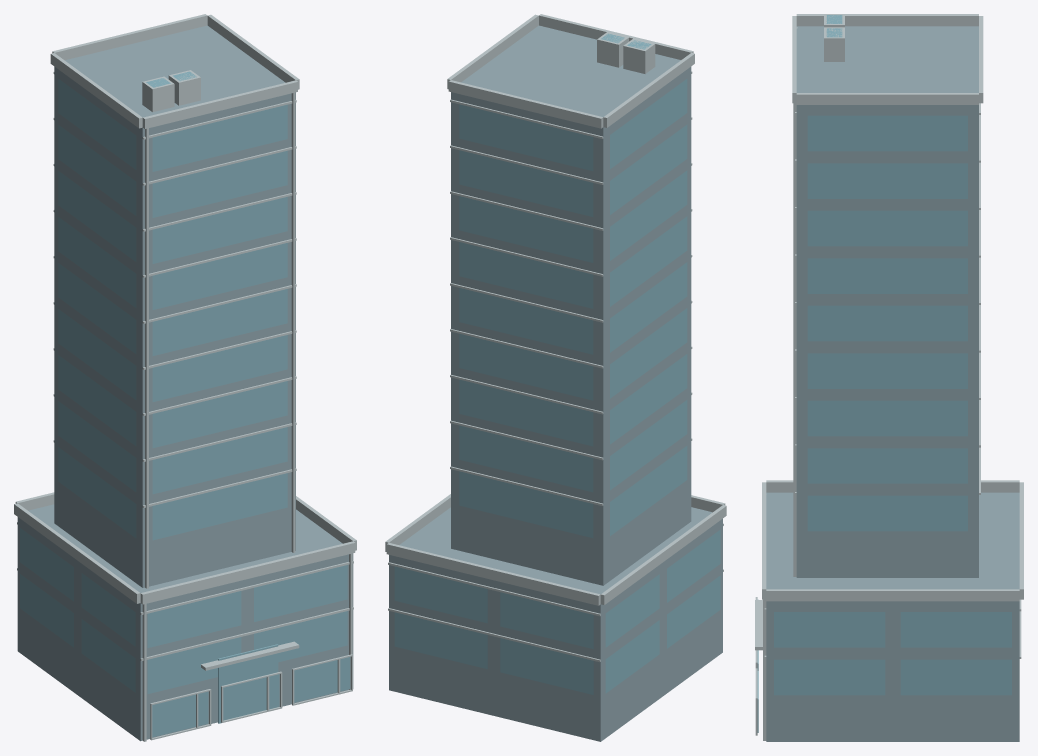
Rendered from commercial_2x2_b.glb.
3 renders of one model, left to right at view 1: azimuth 30°, elevation 25°; view 2: azimuth 150°, elevation 25°; view 3: azimuth 270°, elevation 25°, orthographic. The views are drawn at different scales.
Parts seen in each view (by area): view 1: commercial_2x2_b_0; view 2: commercial_2x2_b_0; view 3: commercial_2x2_b_0.
Part boxes in pixels (bbox=[...]): commercial_2x2_b_0: bbox=[14, 14, 356, 741]; commercial_2x2_b_0: bbox=[385, 14, 726, 741]; commercial_2x2_b_0: bbox=[755, 14, 1023, 741].
Size of the model in its own units: 15 by 40.5 by 15.4.
